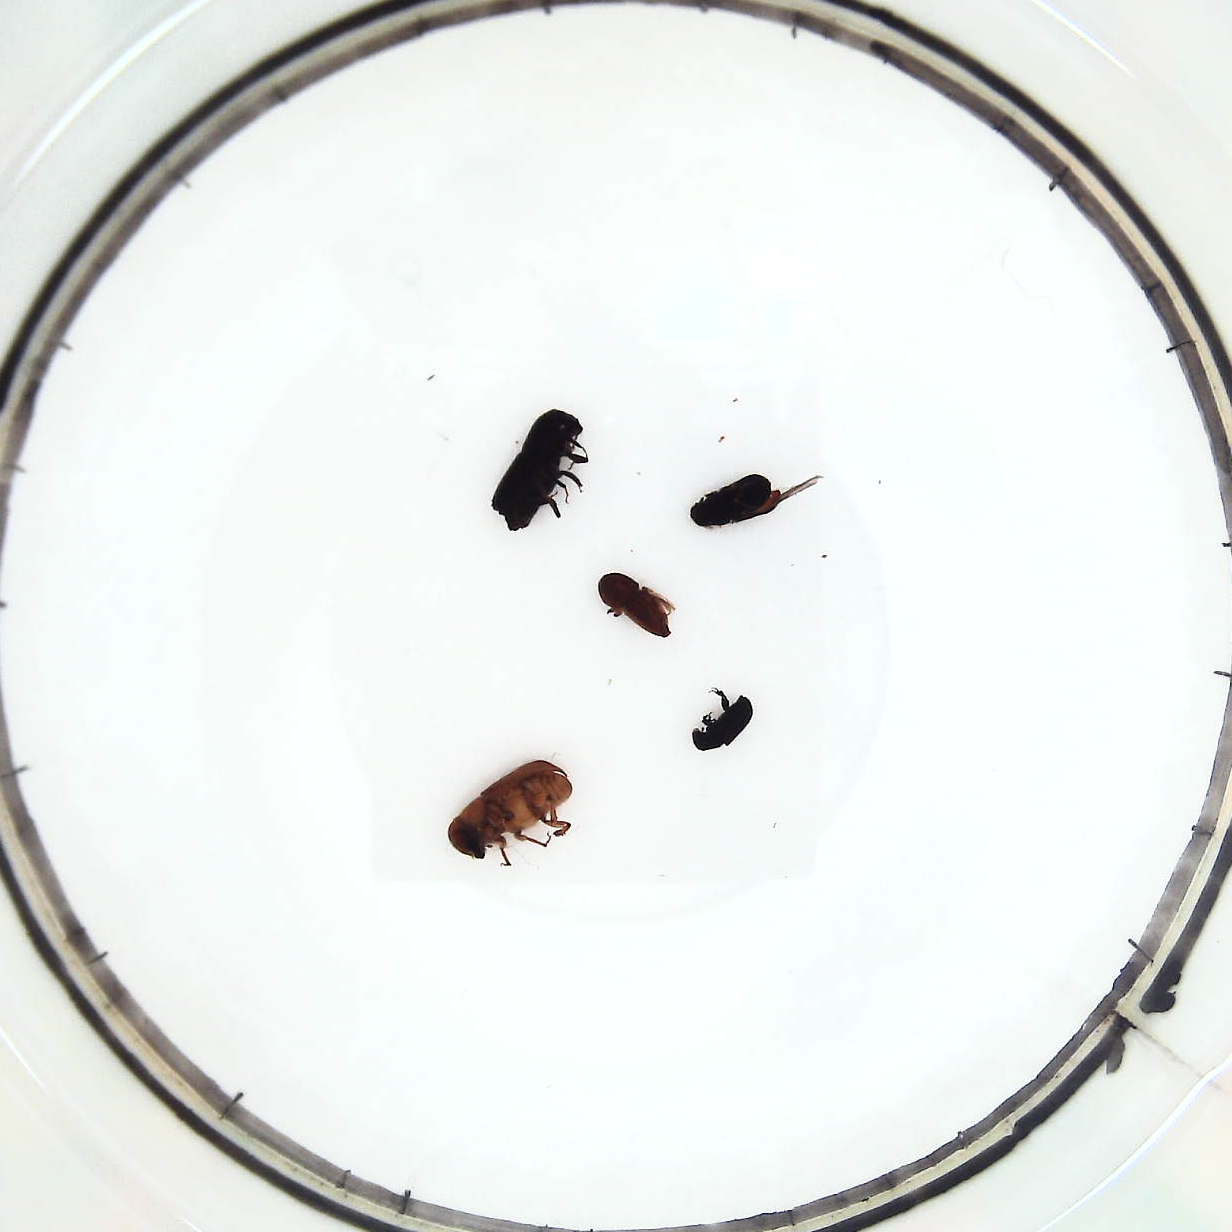Boerner: (489, 407, 592, 538)
Leconte: (449, 760, 590, 868)
armandi: (683, 463, 836, 533)
coleoptera: (692, 685, 756, 755)
linnaeus: (592, 567, 685, 646)
